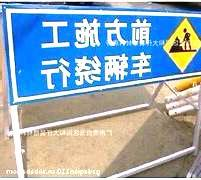sign: (5, 5, 201, 88)
